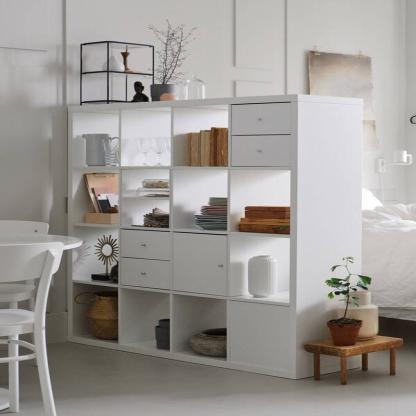lamp: (66, 92, 364, 380)
